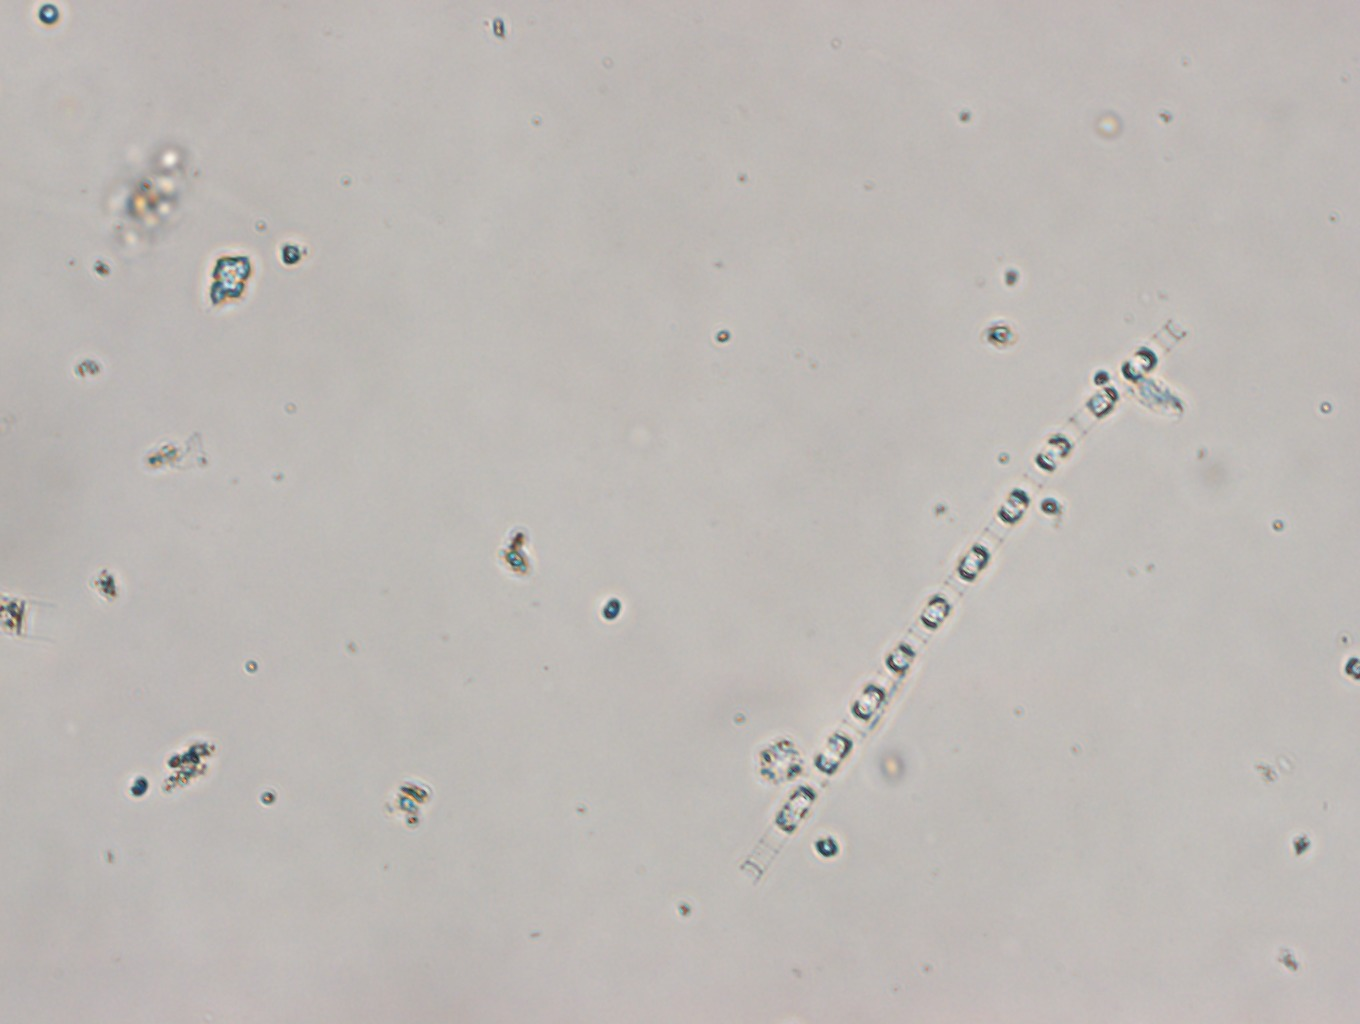skeletonema: (722, 311, 1203, 905)
